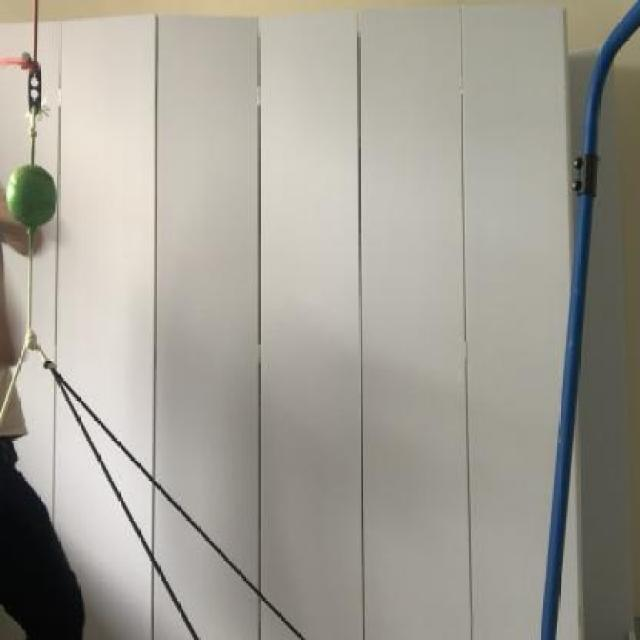baseball: (4, 162, 56, 238)
